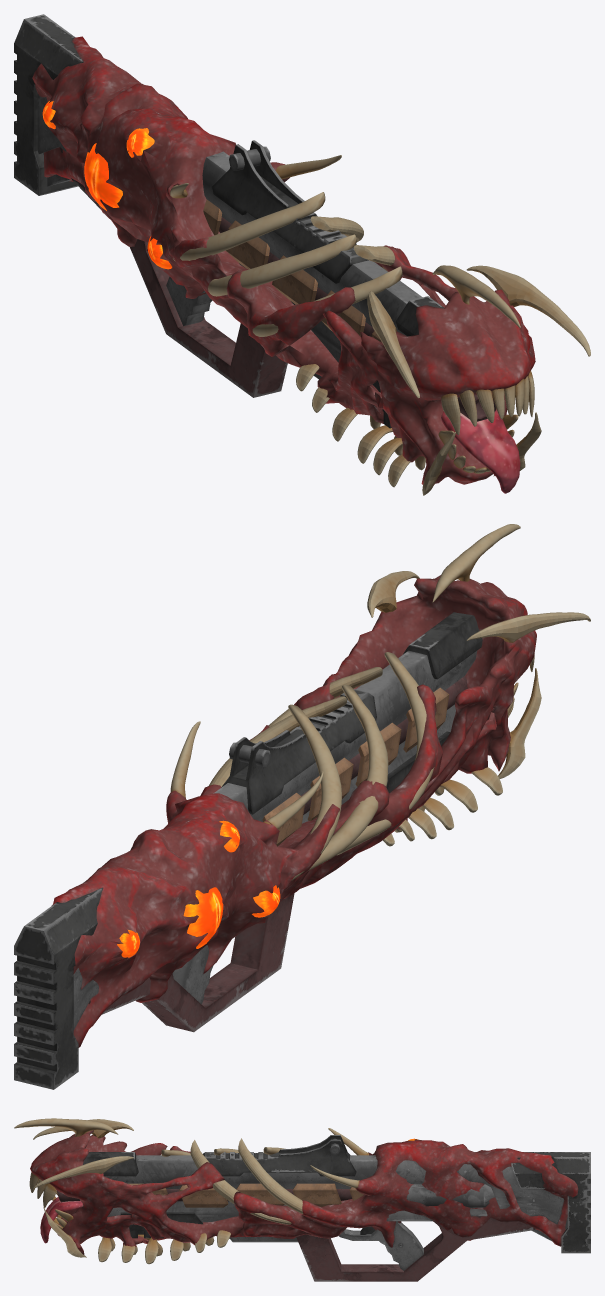
File: Infested_0205.fbx
3 views of the same model, one above another, from view 1: azimuth 30°, elevation 25°; view 2: azimuth 150°, elevation 25°; view 3: azimuth 270°, elevation 25° (orthographic). The views are drawn at different scales.
Visible parts, largest first — view 1: infested_0205; view 2: infested_0205; view 3: infested_0205.
Boxes of the visible parts, x1,y1,x2,y2 form: infested_0205: [14, 14, 590, 495]; infested_0205: [14, 524, 590, 1089]; infested_0205: [14, 1118, 590, 1281].
Size of the model in its own units: 30.22 by 142 by 43.3.
